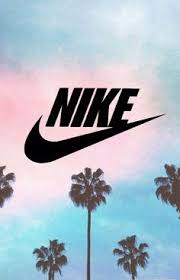nike: (18, 104, 168, 174)
